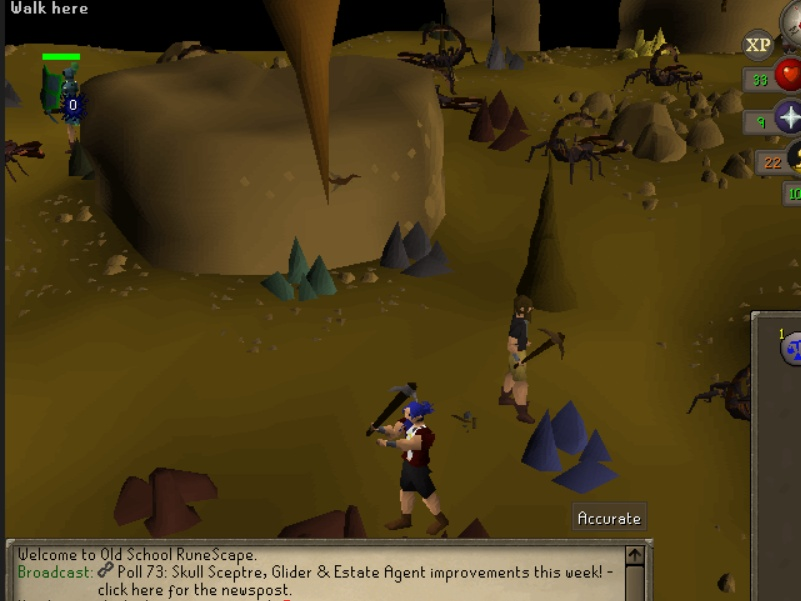adamant: (257, 231, 345, 308)
coal: (63, 134, 99, 185)
gold: (615, 25, 672, 60)
iron: (110, 462, 228, 541), (468, 81, 534, 159), (269, 502, 370, 537)
mithril: (515, 395, 629, 501)
